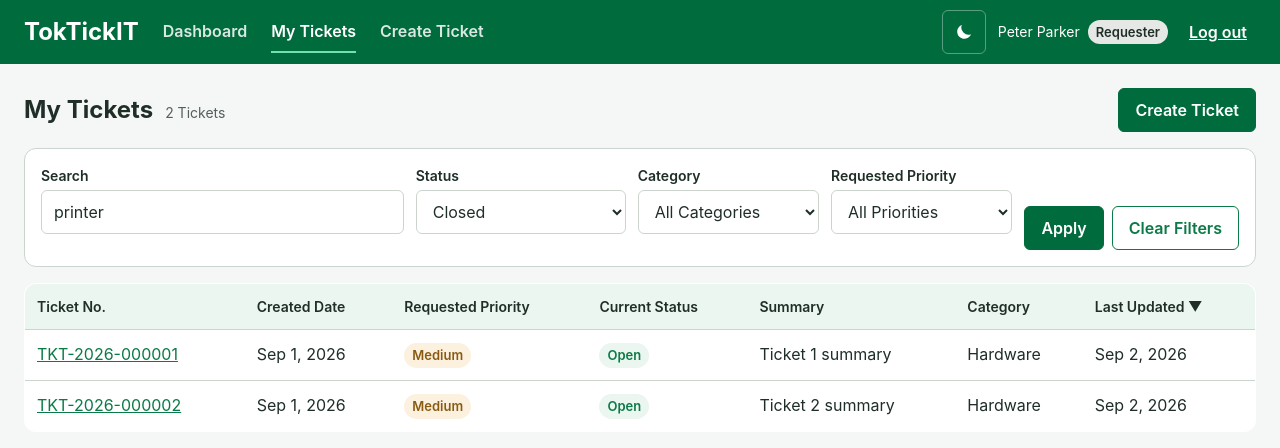
Test: UI-26 My Tickets view in the URL (FR-12, AC-37) › empties the address on Clear Filters, keeping the sort
Expected: the heading "My Tickets" is shown, [24,96,153,124]
Expected: the table is shown, [24,283,1256,432]
What coordinates should you click on to do the following:
click the button "Clear Filters"
I would click on:
 (1175, 228)
Its box is [1112,206,1239,250].
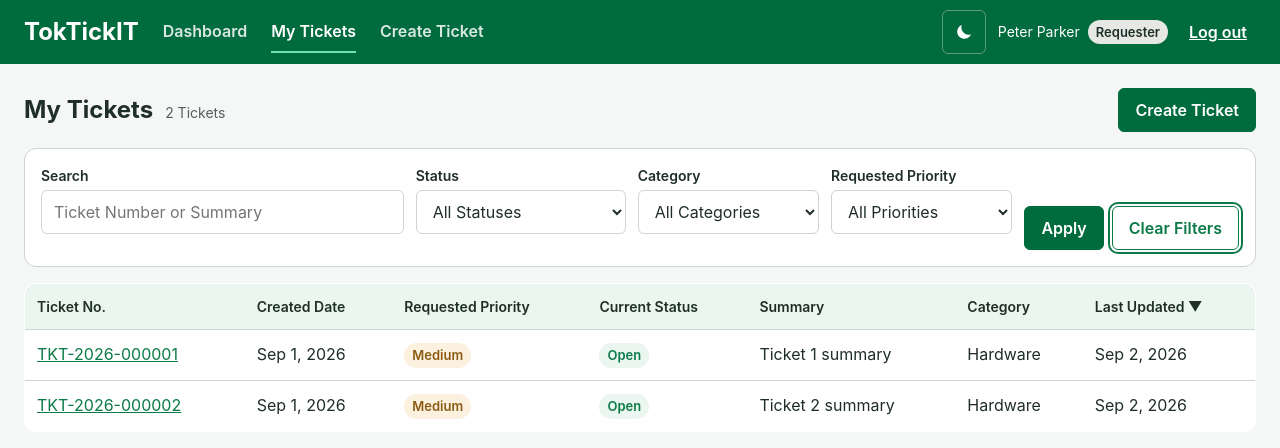
Expected: the dropdown labelled "Status" shows "All Statuses", [416,190,626,234]
Expected: the search field labelled "Search" is empty, [41,190,404,234]
